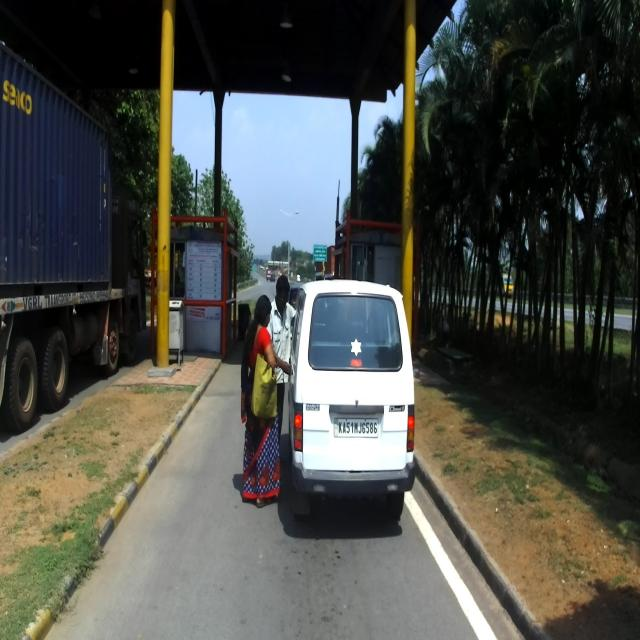car: (287, 281, 414, 524)
truck: (1, 41, 148, 435)
